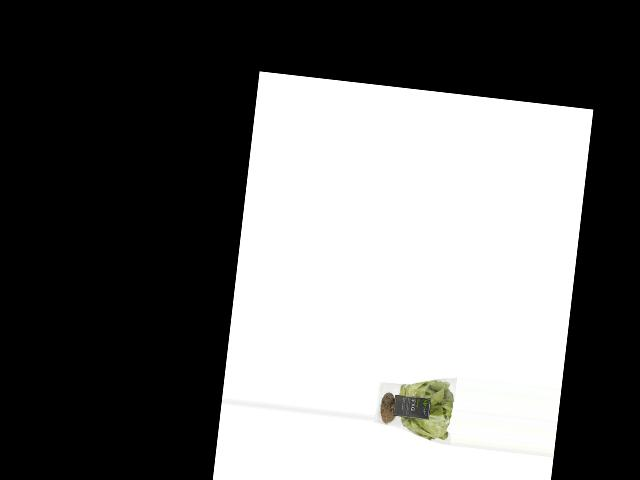lettuce: (372, 370, 456, 444)
